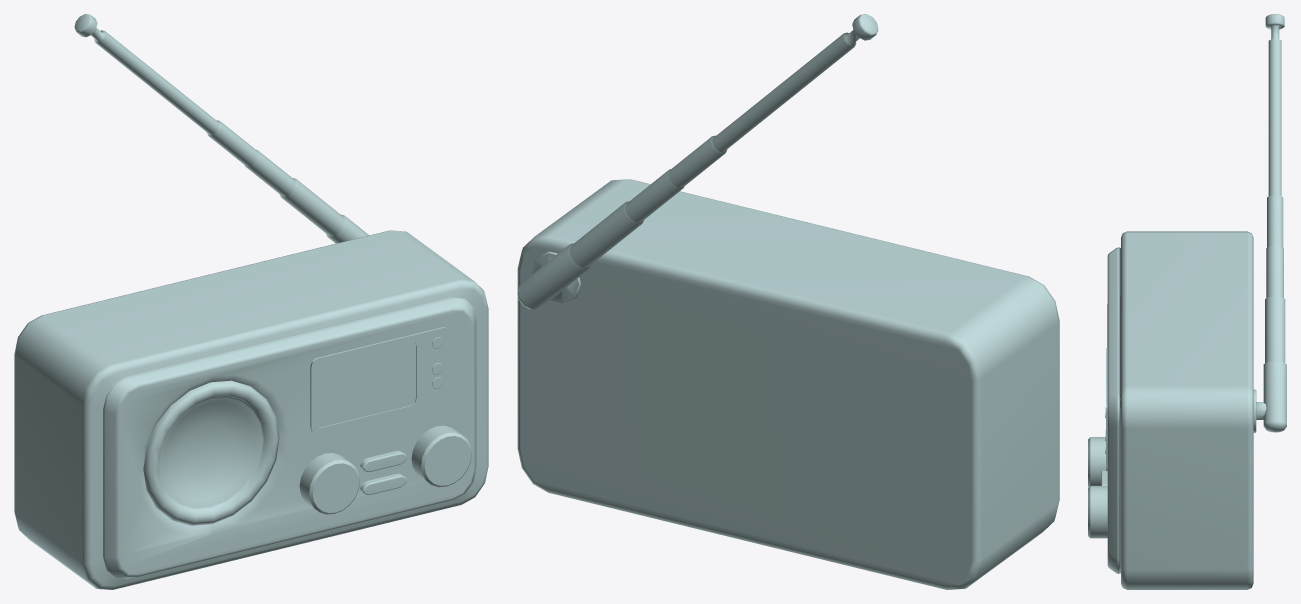
The model's file is Radio.FBX.
3 renders of one model, left to right at view 1: azimuth 30°, elevation 25°; view 2: azimuth 150°, elevation 25°; view 3: azimuth 270°, elevation 25°, orthographic. The views are drawn at different scales.
Parts seen in each view (by area): view 1: pCube8; view 2: pCube8; view 3: pCube8.
Boxes of the visible parts, left/top/right/bottom form: pCube8: left=14, top=14, right=488, bottom=589; pCube8: left=517, top=14, right=1059, bottom=589; pCube8: left=1088, top=14, right=1286, bottom=589.
Size of the model in its own units: 0.4951 by 0.5833 by 0.2348.
